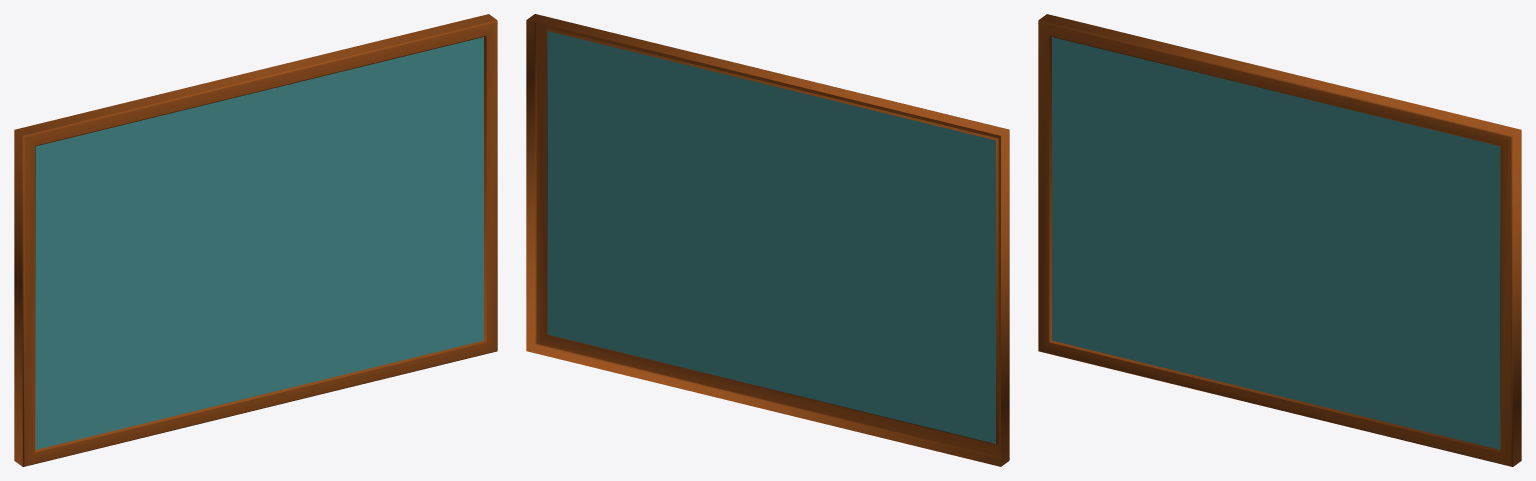
File: bulletin board.fbx
3 views of the same model, side by side, from view 1: azimuth 30°, elevation 25°; view 2: azimuth 150°, elevation 25°; view 3: azimuth 330°, elevation 25° (orthographic).
Parts seen in each view (by area): view 1: Box001; view 2: Box001; view 3: Box001.
Part boxes in pixels (x1,y1,x2,y2): Box001: (14, 14, 497, 466); Box001: (526, 14, 1009, 466); Box001: (1038, 14, 1521, 466).
Bounding box in the file's own units: 90 × 60 × 3.
